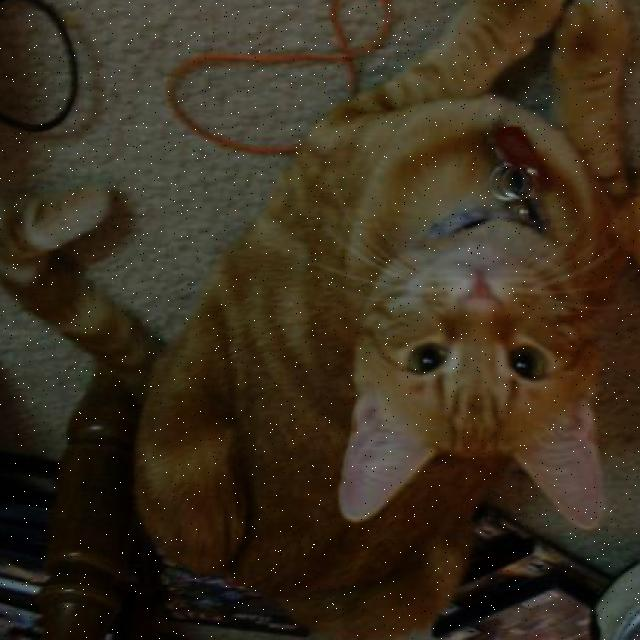Cat: (331, 221, 626, 536)
